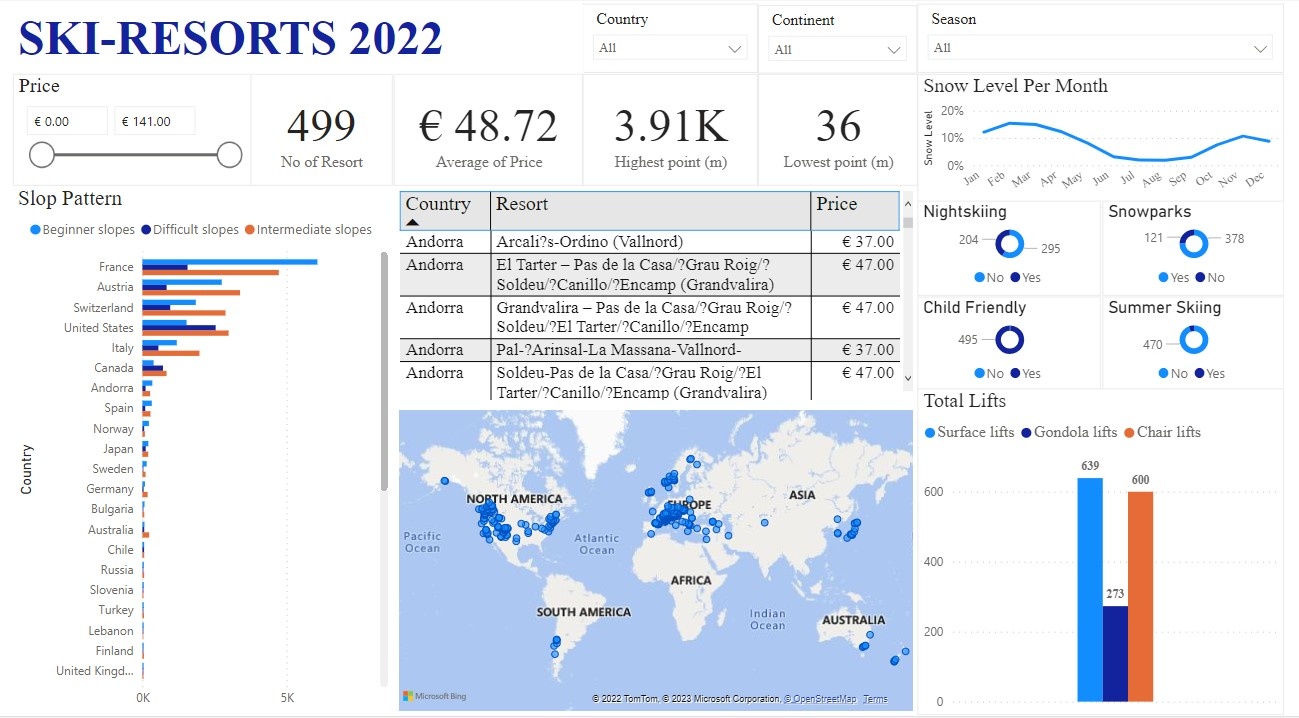

The dashboard page shown, as its layout file describes it:
{"tool":"powerbi","page":{"name":"Page 1","canvas":[1280,720],"ordinal":0},"visuals":[{"type":"slicer","fields":{"Values":["resorts.Season"]},"box":[910.7,3.2,368.7,69.9],"z":0},{"type":"slicer","fields":{"Values":["resorts.Country"]},"box":[573.8,3.2,176.4,69.9],"z":1000},{"type":"slicer","fields":{"Values":["resorts.Continent"]},"box":[750.9,3.6,160,69.1],"z":2000},{"type":"clusteredBarChart","title":"Slop Pattern","fields":{"Category":["resorts.Country"],"Y":["Sum(resorts.Beginner slopes)","Sum(resorts.Difficult slopes)","Sum(resorts.Intermediate slopes)"]},"box":[0,186,383,534],"z":3000},{"type":"card","fields":{"Values":["Count(resorts.Resort)"]},"box":[238.4,73.1,144.6,112.8],"z":4000},{"type":"tableEx","fields":{"Values":["resorts.Country","resorts.Resort","resorts.Price"]},"box":[383,186,527.7,220.9],"z":5000},{"type":"lineClusteredColumnComboChart","title":"Snow Level Per Month","fields":{"Y2":["Divide(Sum(snow.Snow), ScopedEval(Sum(snow.Snow), []))"],"Category":["snow.Month Name"]},"box":[910.7,73.1,368.7,135.1],"z":6000},{"type":"card","fields":{"Values":["Avg(resorts.Price)"]},"box":[383,73.1,190.7,112.8],"z":7000},{"type":"card","fields":{"Values":["Max(resorts.Highest point)"]},"box":[573.8,73.1,176.4,112.8],"z":8000},{"type":"card","fields":{"Values":["Min(resorts.Lowest point)"]},"box":[750.2,73.1,160.5,112.8],"z":9000},{"type":"textbox","box":[0,3.6,574.5,69.1],"z":10000},{"type":"slicer","title":"Price","fields":{"Values":["resorts.Price"]},"box":[0,73.1,240,112.8],"z":11000},{"type":"map","fields":{"Y":["resorts.Latitude"],"X":["resorts.Longitude"]},"box":[383,406.9,527.7,313.1],"z":12000},{"type":"donutChart","title":"Nightskiing","fields":{"Y":["CountNonNull(resorts.Resort)"],"Series":["resorts.Nightskiing"]},"box":[910.7,201.9,184.4,95.4],"z":13000},{"type":"donutChart","title":"Snowparks","fields":{"Y":["CountNonNull(resorts.Resort)"],"Category":["resorts.Snowparks"]},"box":[1096.7,201.9,182.8,95.4],"z":14000},{"type":"donutChart","title":"Summer Skiing","fields":{"Y":["CountNonNull(resorts.Resort)"],"Category":["resorts.Summer skiing"]},"box":[1096.7,297.2,182.8,95.4],"z":15000},{"type":"donutChart","title":"Child Friendly","fields":{"Y":["CountNonNull(resorts.Resort)"],"Series":["resorts.Child friendly"]},"box":[910.7,297.2,184.4,95.4],"z":16000},{"type":"clusteredColumnChart","title":"Total Lifts","fields":{"Y":["Sum(resorts.Surface lifts)","Sum(resorts.Gondola lifts)","Sum(resorts.Chair lifts)"]},"box":[910.9,390.9,369.1,329.1],"z":17000}]}

Visuals, with their boxes in screenshot pixels (x1, y1, x2, y2), scaled from the page's 1280x720 canvas onto the 1299x718 screenshot:
slicer - resorts.Season: (x1=924, y1=3, x2=1298, y2=73)
slicer - resorts.Country: (x1=582, y1=3, x2=761, y2=73)
slicer - resorts.Continent: (x1=762, y1=4, x2=924, y2=72)
"Slop Pattern" clusteredBarChart: (x1=0, y1=185, x2=389, y2=717)
card - Count(resorts.Resort): (x1=242, y1=73, x2=389, y2=185)
tableEx - resorts.Country x resorts.Resort: (x1=389, y1=185, x2=924, y2=406)
"Snow Level Per Month" lineClusteredColumnComboChart: (x1=924, y1=73, x2=1298, y2=208)
card - Avg(resorts.Price): (x1=389, y1=73, x2=582, y2=185)
card - Max(resorts.Highest point): (x1=582, y1=73, x2=761, y2=185)
card - Min(resorts.Lowest point): (x1=761, y1=73, x2=924, y2=185)
textbox: (x1=0, y1=4, x2=583, y2=72)
"Price" slicer: (x1=0, y1=73, x2=244, y2=185)
map - resorts.Latitude x resorts.Longitude: (x1=389, y1=406, x2=924, y2=717)
"Nightskiing" donutChart: (x1=924, y1=201, x2=1111, y2=296)
"Snowparks" donutChart: (x1=1113, y1=201, x2=1298, y2=296)
"Summer Skiing" donutChart: (x1=1113, y1=296, x2=1298, y2=392)
"Child Friendly" donutChart: (x1=924, y1=296, x2=1111, y2=392)
"Total Lifts" clusteredColumnChart: (x1=924, y1=390, x2=1298, y2=717)
